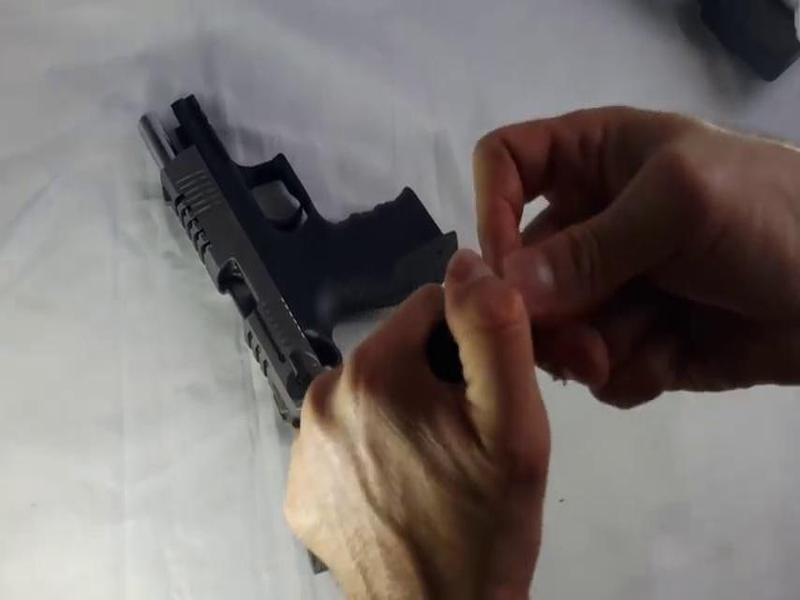Pistola: (135, 91, 468, 424)
